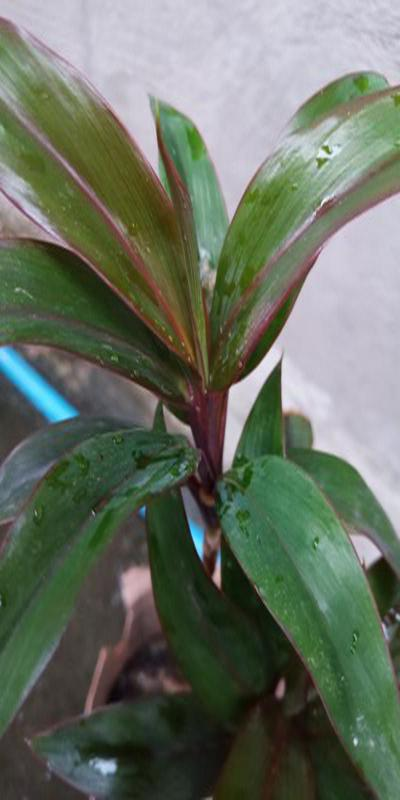Baston de san jose: (22, 99, 389, 788)
